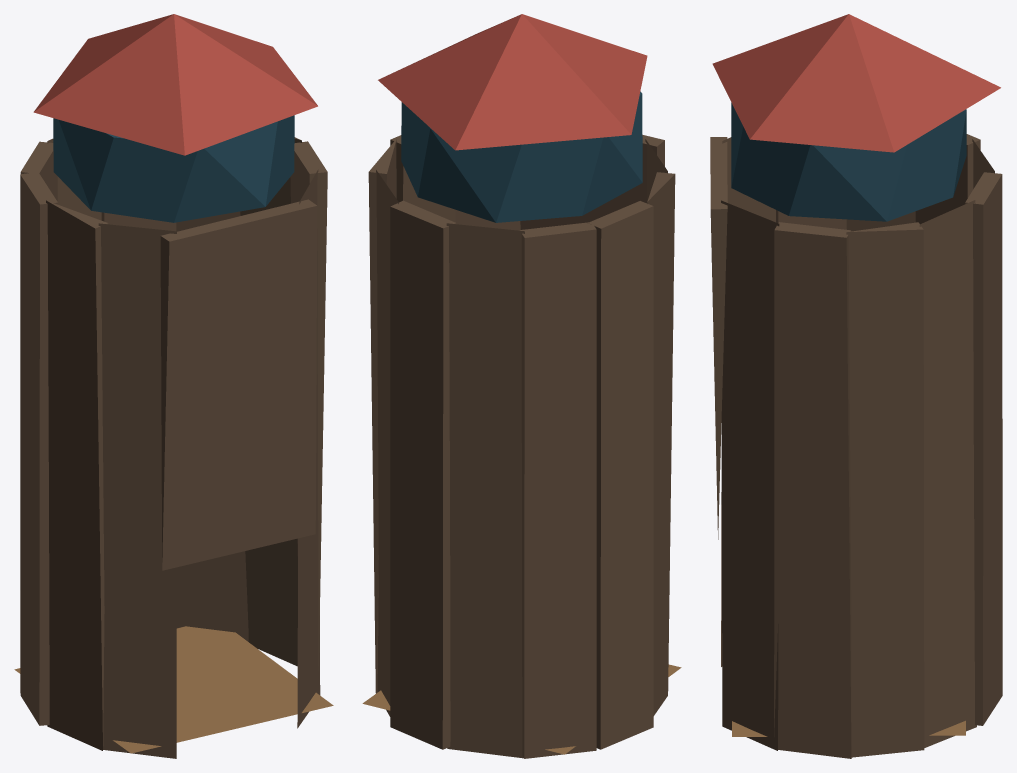
File: harbor-watchtower.lod2.glb
3 views of the same model, side by side, from view 1: azimuth 30°, elevation 25°; view 2: azimuth 150°, elevation 25°; view 3: azimuth 270°, elevation 25° (orthographic).
Visible parts, largest first — view 1: harbor-watchtower__body, harbor-watchtower__front-wall, harbor-watchtower__roof; view 2: harbor-watchtower__body, harbor-watchtower__roof, harbor-watchtower__front-wall; view 3: harbor-watchtower__body, harbor-watchtower__roof, harbor-watchtower__front-wall.
Part boxes in pixels (x1,y1,x2,y2): harbor-watchtower__body: (14,115,333,758); harbor-watchtower__front-wall: (160,199,317,570); harbor-watchtower__roof: (33,14,317,155); harbor-watchtower__body: (362,91,681,758); harbor-watchtower__roof: (378,14,647,150); harbor-watchtower__front-wall: (520,134,664,229); harbor-watchtower__body: (721,102,1002,758); harbor-watchtower__roof: (712,14,1000,152); harbor-watchtower__front-wall: (710,137,727,539).
Bounding box in the file's own units: 3.19 × 7.83 × 3.04.
